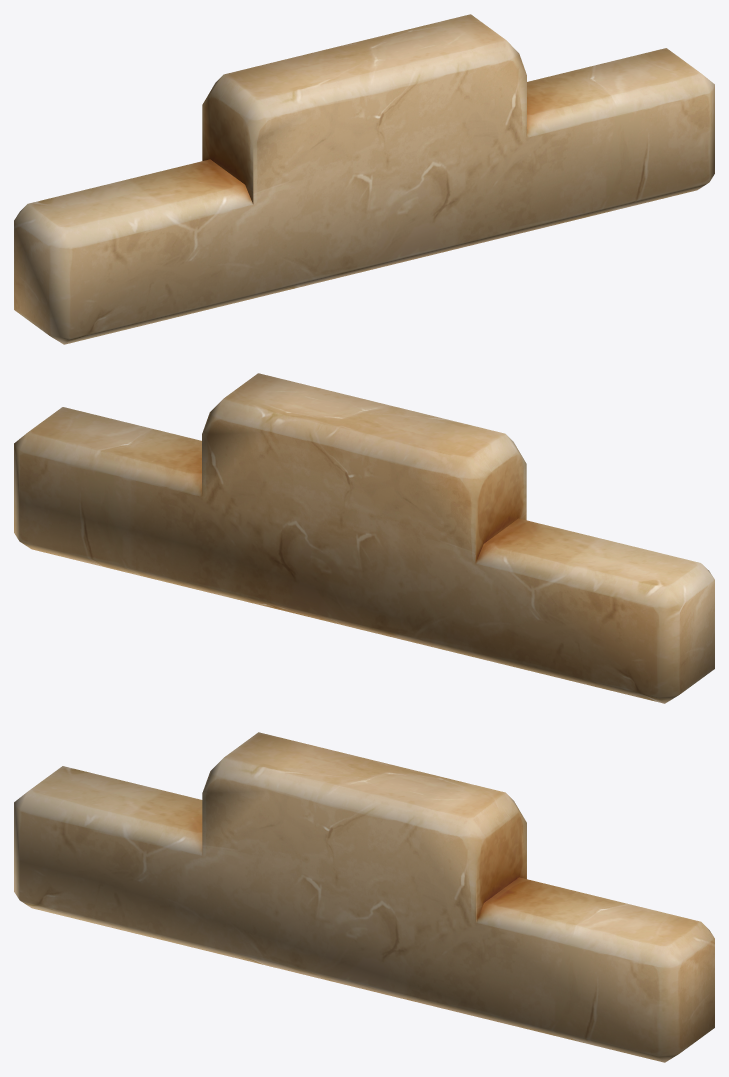
File: DE_House_Mod_Part_45.fbx
3 renders of one model, top to bottom at view 1: azimuth 30°, elevation 25°; view 2: azimuth 150°, elevation 25°; view 3: azimuth 330°, elevation 25°, orthographic.
Parts seen in each view (by area): view 1: DE_House_Mod_Part_45; view 2: DE_House_Mod_Part_45; view 3: DE_House_Mod_Part_45.
Boxes of the visible parts, x1=… form: DE_House_Mod_Part_45: x1=14, y1=14, x2=714, y2=344; DE_House_Mod_Part_45: x1=14, y1=373, x2=714, y2=703; DE_House_Mod_Part_45: x1=14, y1=732, x2=714, y2=1062.
Bounding box in the file's own units: 6 × 1.71 × 0.7972.
